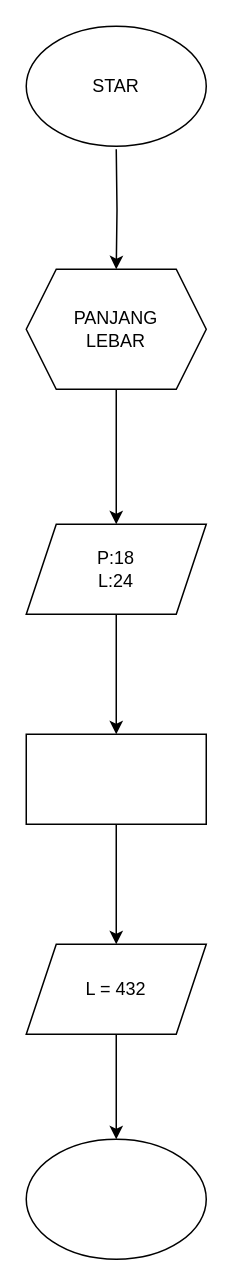
Image size: 233x1286. Some labels were removed from this diagram. Here are the shapes that lost their labels. From the top down, the box of each, then its label:
(25, 733, 206, 824): L = P . L
(25, 1138, 206, 1259): END
